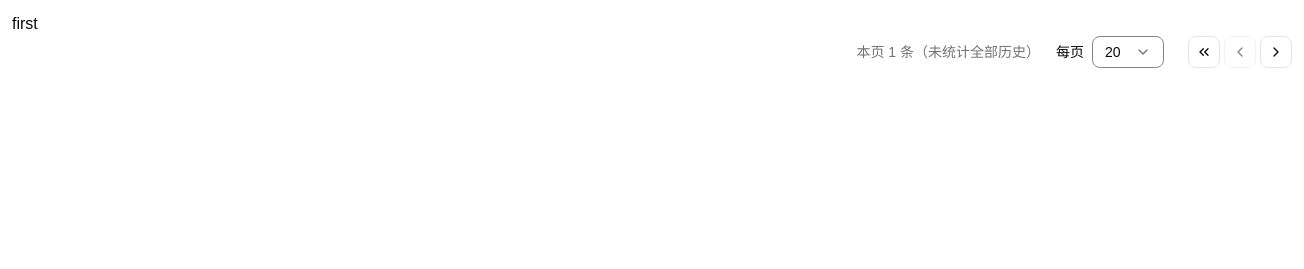
server history table › changes page size through Base UI, resets the query-bound cursor and ignores the old page
Click the button named "下一页" at (1276,52), box [1260,36,1292,68]
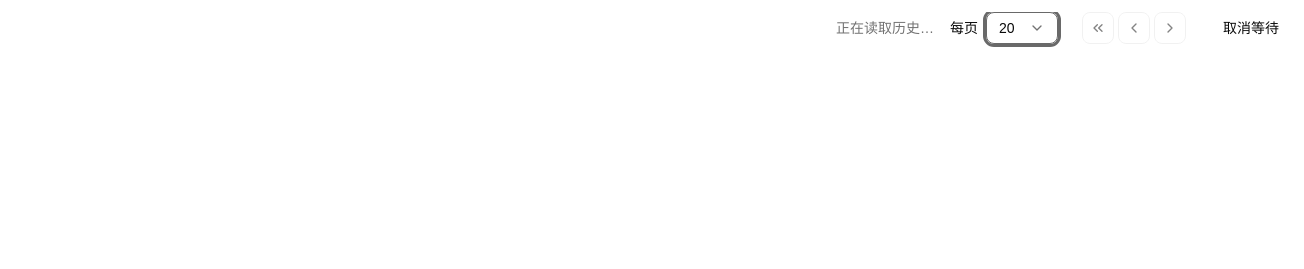
Press ArrowDown in the dropdown labelled "20 ▼", box [986,12,1058,44]
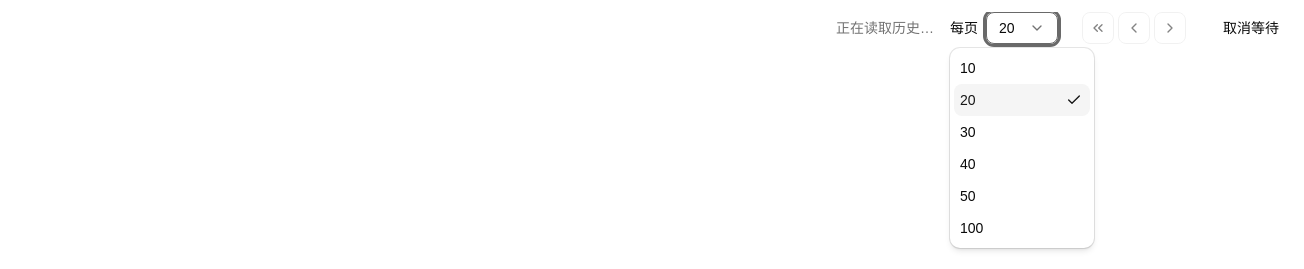
Click the option "100" at (972,228), box [960,220,983,236]
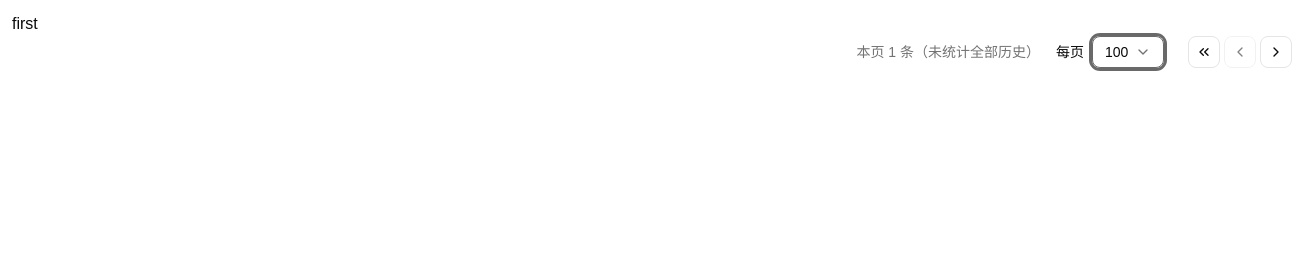
Expected: the text "first" is shown, [12,15,38,32]
